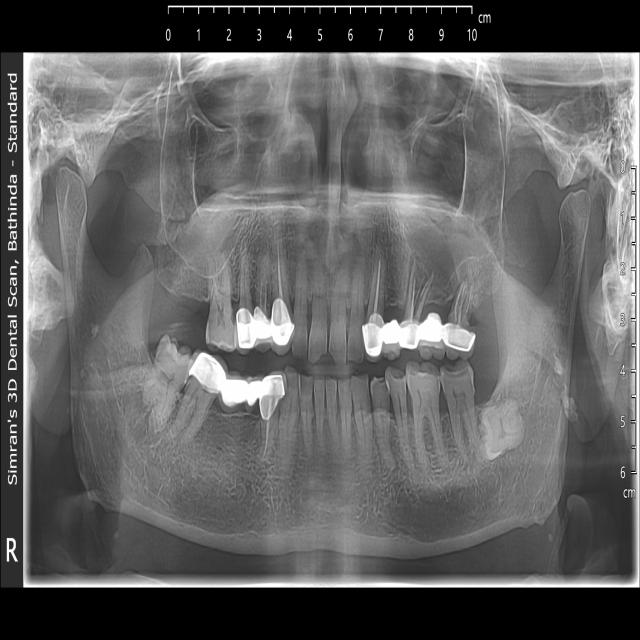Caries: (206, 303, 237, 348), (370, 375, 388, 412), (316, 348, 334, 365)
Crown: (190, 351, 284, 420), (361, 313, 477, 363), (237, 299, 296, 350)
Missing teeth: (209, 410, 253, 463), (169, 272, 205, 315), (428, 267, 456, 315), (386, 262, 407, 319)
Root Canal Treatment: (400, 253, 435, 323), (271, 214, 289, 306), (365, 243, 385, 323), (253, 233, 270, 320), (448, 278, 475, 332), (257, 402, 279, 465)
impacted tooth: (480, 400, 530, 462)
